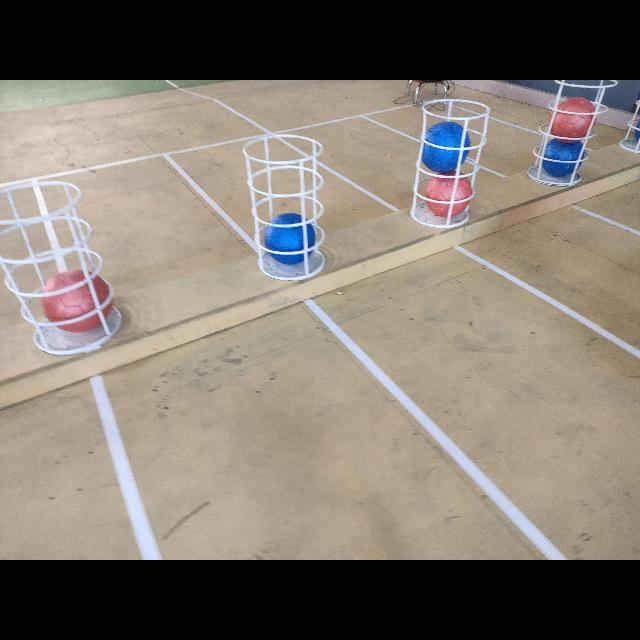B: (262, 212, 316, 264), (418, 120, 469, 172), (543, 140, 583, 177)
R: (40, 268, 114, 334), (548, 96, 596, 142), (426, 174, 476, 218)
